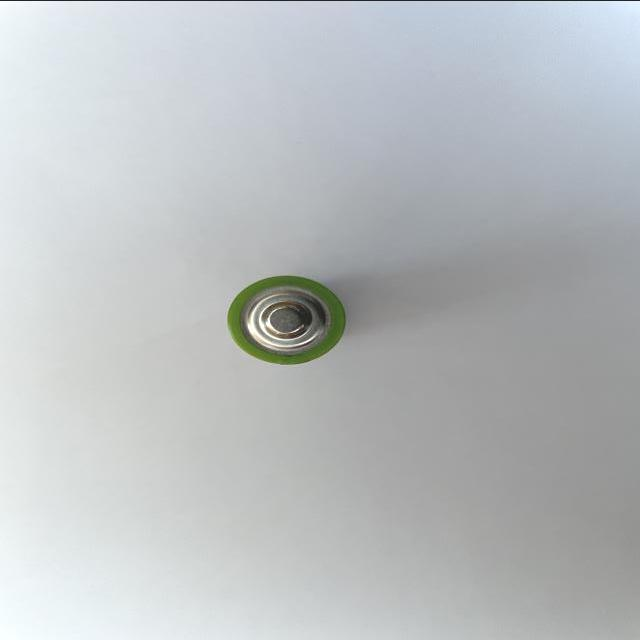AA: (220, 273, 352, 367)
